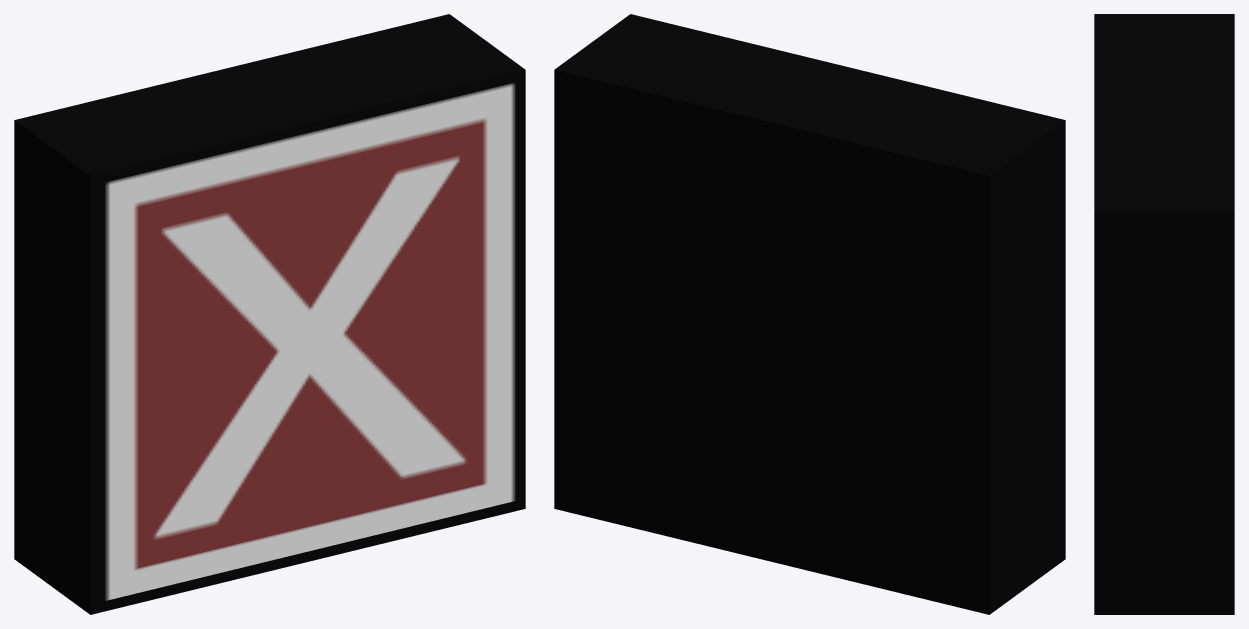
The model's file is DeadEnd.fbx.
3 views of the same model, side by side, from view 1: azimuth 30°, elevation 25°; view 2: azimuth 150°, elevation 25°; view 3: azimuth 270°, elevation 25° (orthographic). The views are drawn at different scales.
Parts seen in each view (by area): view 1: Cube; view 2: Cube; view 3: Cube.
Part boxes in pixels (<box>): Cube: <box>14,14,525,614</box>; Cube: <box>554,14,1065,614</box>; Cube: <box>1094,14,1234,614</box>.
Size of the model in its own units: 215 by 208 by 65.2.
